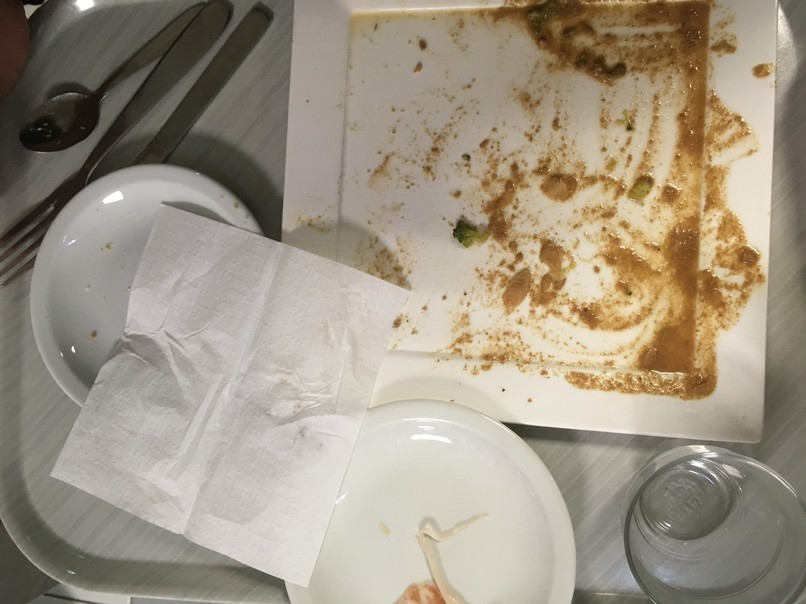cup: (607, 418, 806, 600)
cutlery: (1, 4, 282, 289)
trash: (128, 204, 363, 573)
